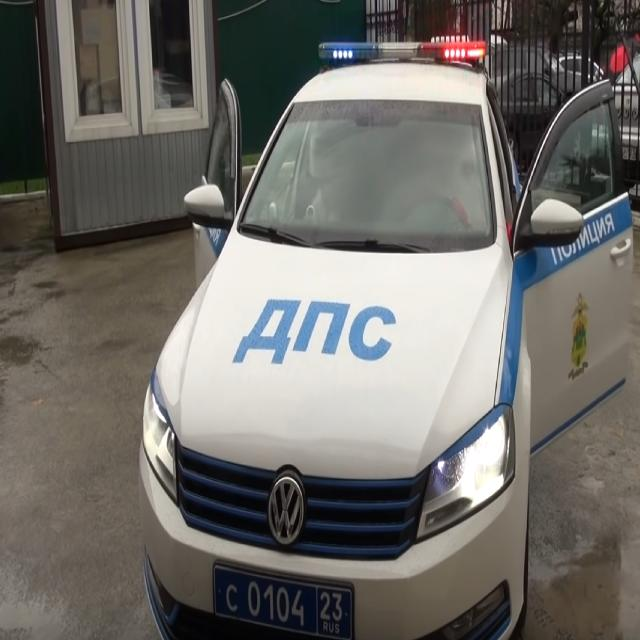police car: (135, 33, 640, 640)
